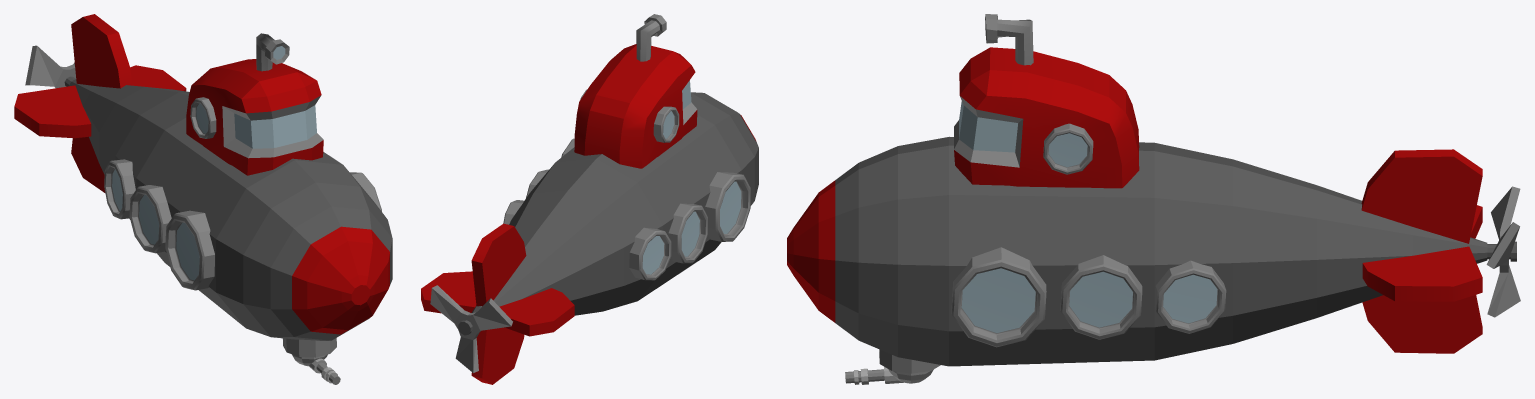
The model's file is Enemy Submarine.fbx.
3 renders of one model, left to right at view 1: azimuth 30°, elevation 25°; view 2: azimuth 150°, elevation 25°; view 3: azimuth 270°, elevation 25°, orthographic. The views are drawn at different scales.
Parts seen in each view (by area): view 1: polySurface9, Propellor; view 2: polySurface9, Propellor; view 3: polySurface9, Propellor.
Boxes of the visible parts, x1=… form: polySurface9: x1=14, y1=14, x2=392, y2=384; Propellor: x1=25, y1=45, x2=76, y2=88; polySurface9: x1=421, y1=14, x2=758, y2=384; Propellor: x1=430, y1=285, x2=512, y2=372; polySurface9: x1=787, y1=14, x2=1516, y2=384; Propellor: x1=1486, y1=186, x2=1520, y2=317.
Size of the model in its own units: 3.84 by 6.05 by 10.91.
